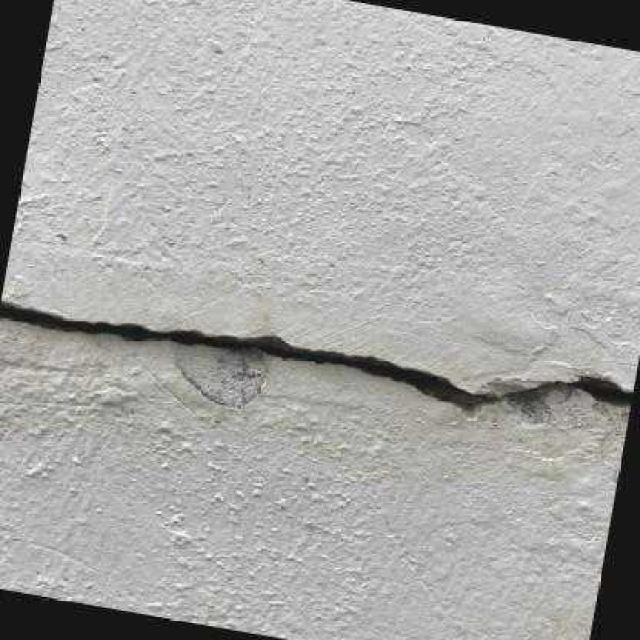D00: (0, 300, 632, 410)
